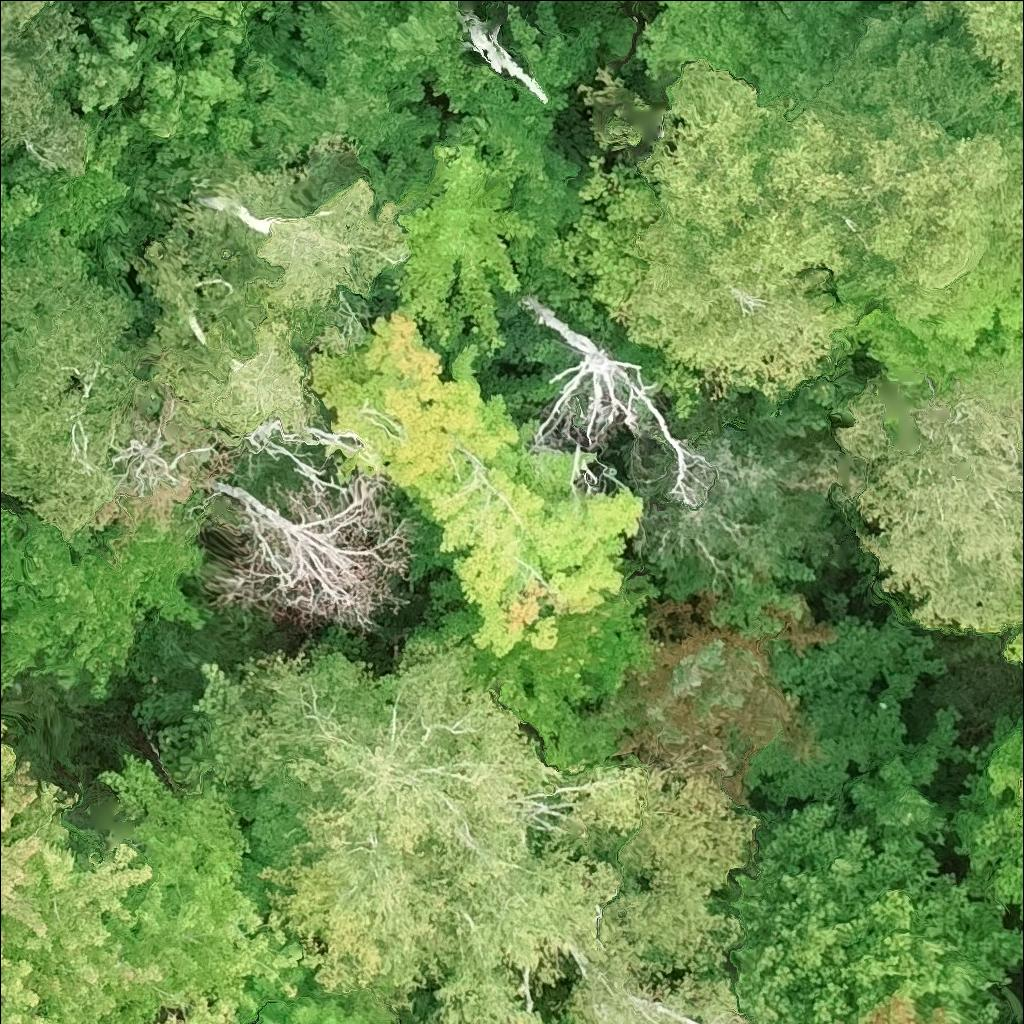crown: (240, 633, 765, 1023), (302, 310, 643, 660), (622, 61, 868, 403), (759, 15, 1023, 320), (708, 800, 1023, 1023), (815, 361, 1023, 637), (98, 753, 309, 1023), (216, 0, 499, 197), (0, 738, 172, 1023), (0, 497, 213, 707), (518, 294, 715, 511), (178, 161, 412, 338), (0, 271, 143, 542), (481, 573, 663, 774), (384, 130, 547, 353), (134, 239, 310, 437), (440, 81, 586, 292), (632, 0, 890, 118), (213, 481, 409, 624), (538, 155, 660, 325), (846, 276, 1023, 390), (133, 655, 265, 790), (0, 0, 96, 178), (949, 716, 1023, 921), (504, 0, 607, 114), (243, 962, 401, 1023), (955, 0, 1023, 110), (860, 988, 954, 1023), (151, 994, 249, 1023), (0, 179, 44, 242), (873, 0, 956, 33), (1000, 629, 1023, 676), (1019, 770, 1023, 799), (0, 151, 6, 167), (614, 0, 631, 5), (397, 0, 411, 6)
